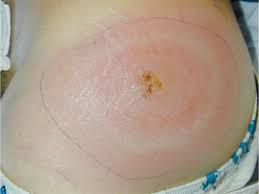Tick: (92, 47, 192, 126)
